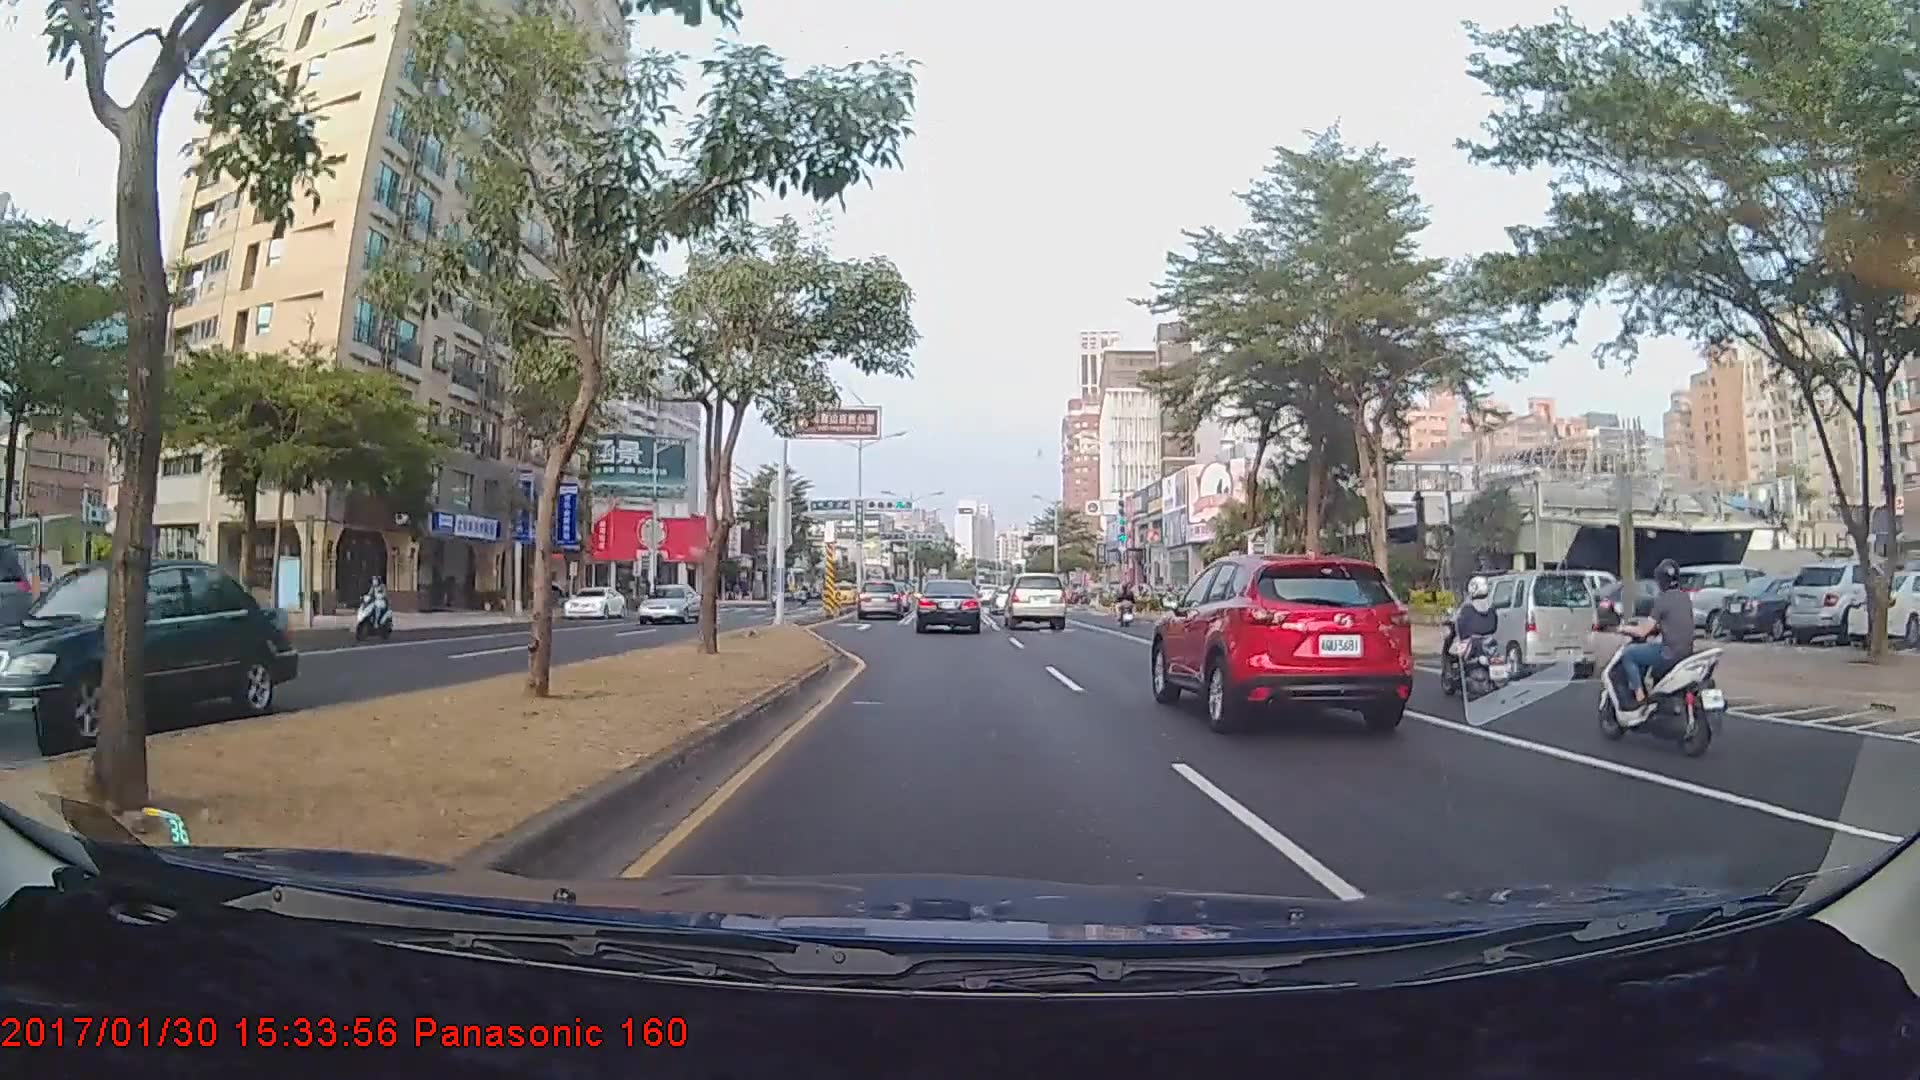rider: (1588, 555, 1731, 756), (1430, 572, 1527, 713), (352, 571, 398, 640), (1118, 588, 1140, 631)
vehicle: (0, 557, 297, 737), (1152, 546, 1413, 727), (1440, 568, 1600, 681), (1657, 564, 1784, 636), (1001, 572, 1068, 630), (915, 579, 982, 634), (635, 583, 702, 623), (855, 578, 908, 621), (562, 583, 626, 617)
